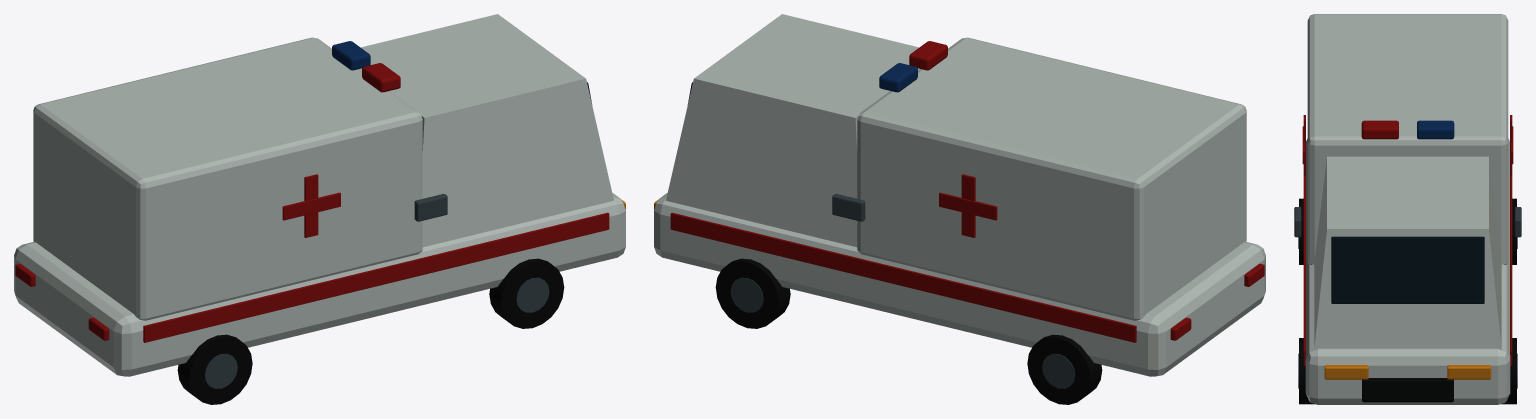
File: Ambulance.fbx
3 renders of one model, left to right at view 1: azimuth 30°, elevation 25°; view 2: azimuth 150°, elevation 25°; view 3: azimuth 270°, elevation 25°, orthographic. The views are drawn at different scales.
Visible parts, largest first — view 1: Ambulance; view 2: Ambulance; view 3: Ambulance.
Boxes of the visible parts, x1,y1,x2,y2 form: Ambulance: (14, 14, 625, 404); Ambulance: (654, 14, 1265, 404); Ambulance: (1294, 14, 1521, 404).
Size of the model in its own units: 564 by 231 by 258.
